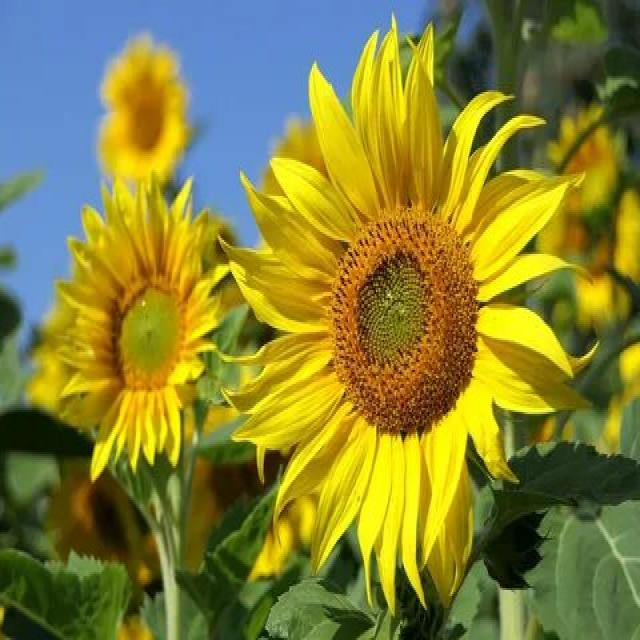sunflower: (230, 18, 586, 610), (52, 188, 227, 488), (94, 42, 202, 184)
